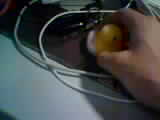duck: (76, 17, 132, 66)
